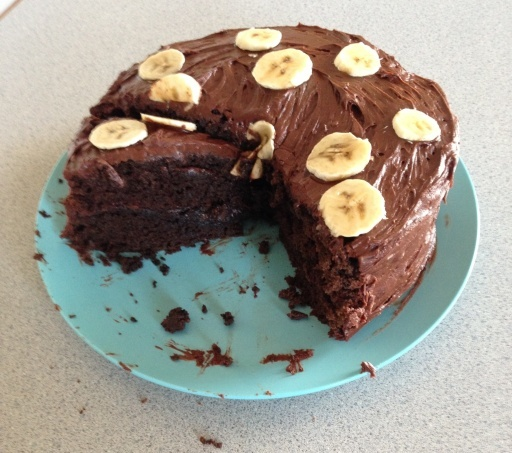background: (47, 15, 367, 239)
